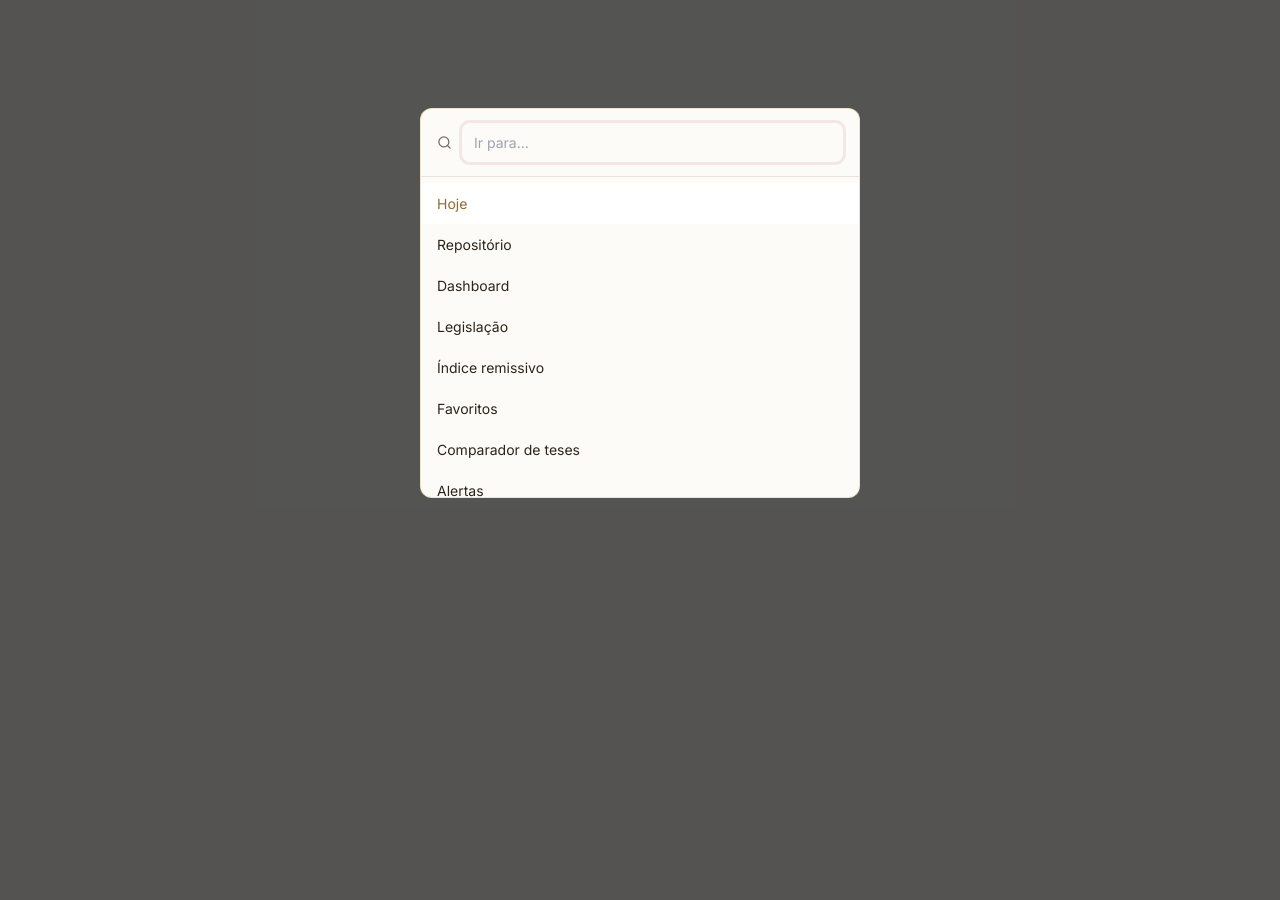
CommandPalette › mostra "Nada encontrado" quando o filtro não bate com nada
Type "xyzxyz" into the field with placeholder "Ir para…". click: (652, 142)
box: [462,123,843,162]
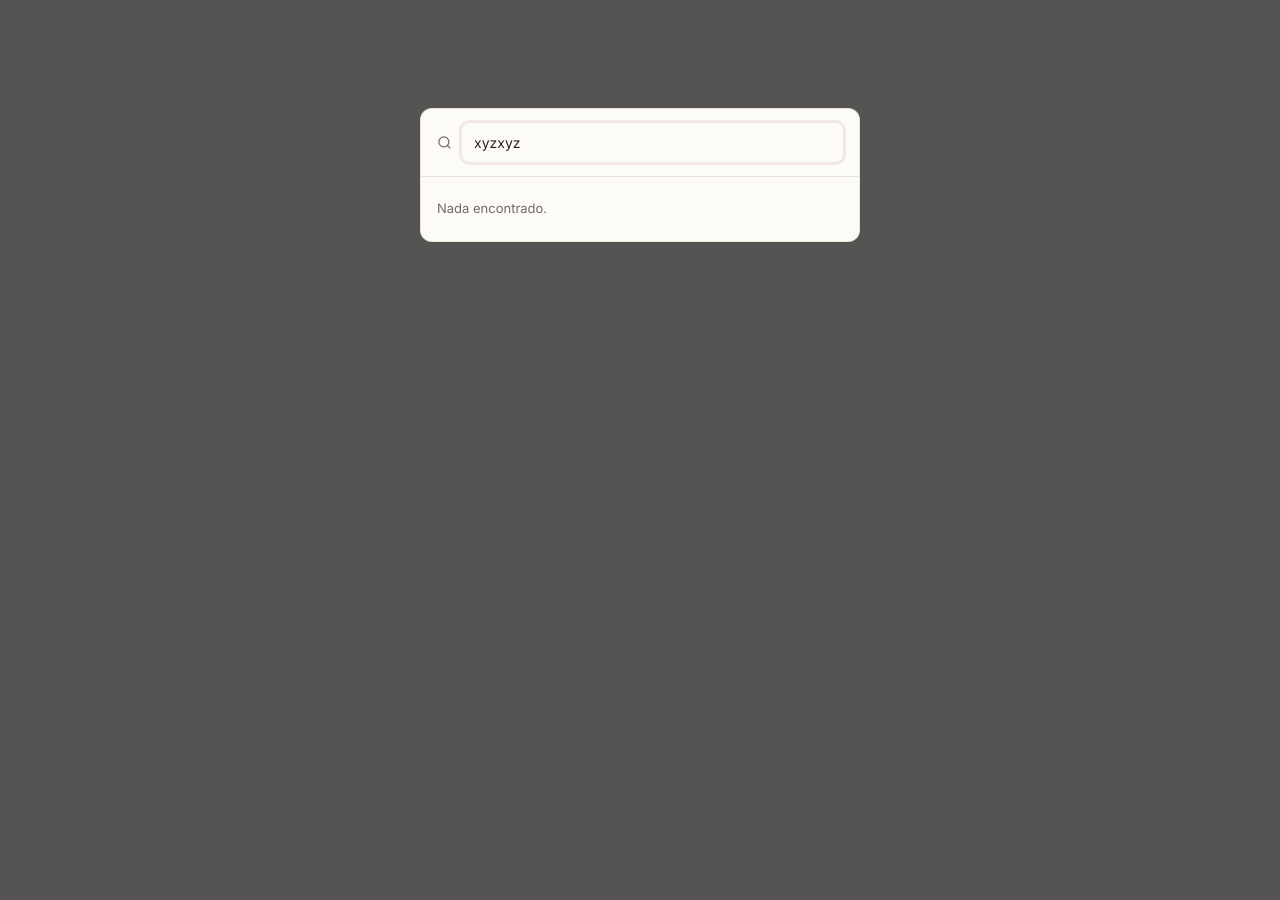
Check: the text "Nada encontrado." is shown, box [437,200,547,216]
